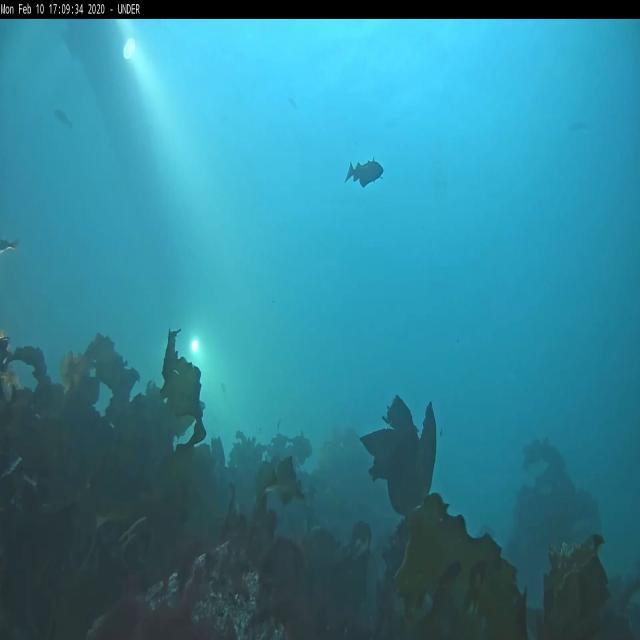fish: (344, 160, 384, 190), (1, 240, 20, 254), (56, 109, 70, 127)
